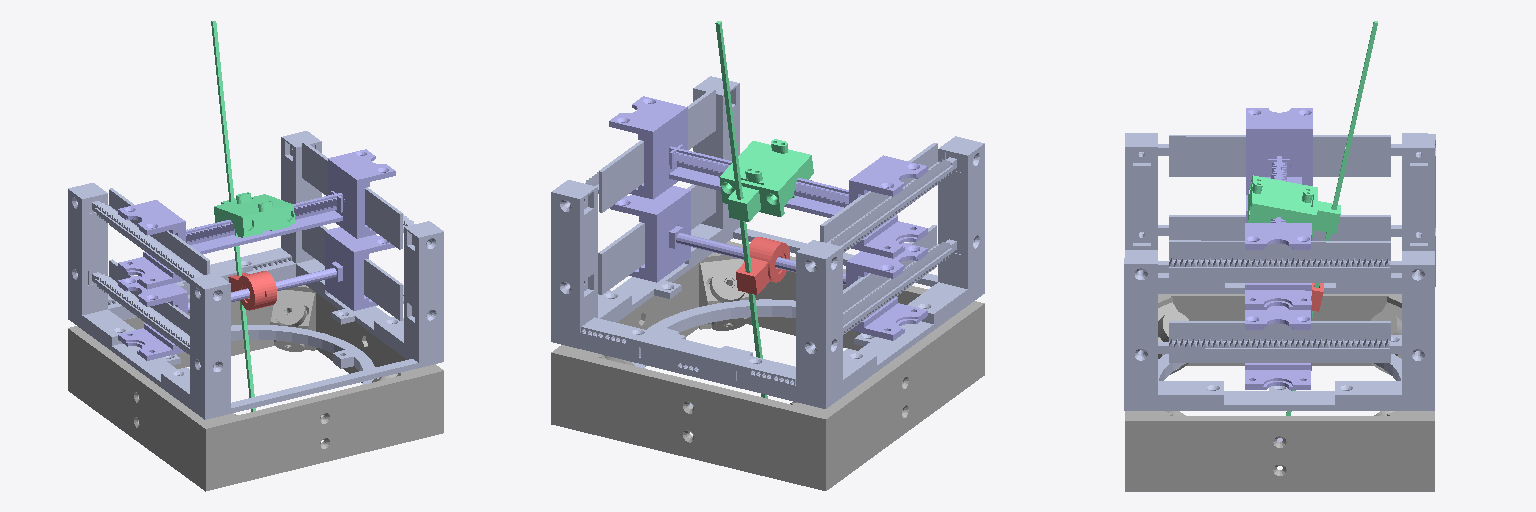
robot.urdf — robot_test:
<?xml version="1.0" ?>
<!-- Revolute-Revolute Manipulator -->
<robot name="robot_test" xmlns:xacro="http://www.ros.org/wiki/xacro">
    <link name="world" />
    <link name="base_link">

<inertial>
            <origin xyz="0 0 0.0175" rpy="0 0 0" />
            <mass value="0.168" />
            <inertia ixx="0.0005" ixy="0" ixz="0" iyy="0.00049" iyz="0" izz="0.00097" />
        </inertial>
        <visual>
          <origin xyz="0.07 0.07 0" rpy="1.5708 0 0" />
          <geometry>
              <mesh filename="package://robot_test/meshes/base_linkc3.STL" />
          </geometry>
            <material name="">
                <color rgba="0.752941176470588 0.752941176470588 0.752941176470588 1" />
            </material>
        </visual>
        <collision>
          <origin xyz="0.07 0.07 0" rpy="1.5708 0 0" />
          <geometry>
              <mesh filename="package://robot_test/meshes/base_linkc3.STL" />
          </geometry>
        </collision>
    </link>
    <joint name="Joint0" type="fixed">
        <parent link="world" />
        <child link="base_link" />
    </joint>
    <link name="Link1">

<inertial>
            <origin xyz="0 0.04 0" rpy="0 0 0" />
            <mass value="0.125076916309071" />
            <inertia ixx="0.000213301900832475" ixy="7.20042983445819E-14" ixz="1.93294951442505E-15" iyy="0.000241629980148854" iyz="-3.15911644980272E-07" izz="15.71772481619727E-05" />
        </inertial>
<!--<origin xyz="-0.2 -0.25 0.2" rpy="0 0.55 0" /> -->
        <visual>
            <origin xyz="0 0 0" rpy="0 1.5708 0" />
            <geometry>
                <mesh filename="package://robot_test/meshes/Link1gb.STL" />
            </geometry>
            <material name="">
                <color rgba="0.792156862745098 0.819607843137255 0.933333333333333 1" />
            </material>
        </visual>
        <collision>
            <origin xyz="0 -0.25 0" rpy="0 0 0" />
            <geometry>
                <mesh filename="package://robot_test/meshes/Link1gb.STL" />
            </geometry>
        </collision>
    </link>
    <!--revolute  rpy="1.5708 0 -2.3561" -->
    <joint name="Joint1" type="revolute">
        <origin xyz="0 0 0.04" rpy="1.5708 0 4.71" />
        <parent link="base_link" />
        <child link="Link1" />
        <axis xyz="0 1 0" />
        <!--lower="-1.34" upper="1.34"-->
        <limit effort="3" velocity="5.0" lower="-1.34" upper="1.34" />
        <dynamics damping="0.7" />
    </joint>
    <link name="Link2">

<inertial>
            <origin xyz="0 0 0" rpy="0 0 0" />
            <mass value="0.0217880910599681" />
            <inertia ixx="0.000003227" ixy="0" ixz="0" iyy="0.00005049" iyz="0" izz="0.00005" />
        </inertial>

        <!-- 0 up forward -->
        <visual>
            <origin xyz="0 -0.0165 0.0207" rpy="-1.5708 1.5708 0" />
            <geometry>
                <mesh filename="package://asm_robotv2_4/meshes/Link2.STL" />
            </geometry>
            <material name="">
                <color rgba="0.752941176470588 0.752941176470588 1 1" />
            </material>
        </visual>
        <collision>
            <origin xyz="0 -0.0165 0.0207" rpy="-1.5708 1.5708 0" />
            <geometry>
                <mesh filename="package://robot_test/meshes/Link2.STL" />
            </geometry>
        </collision>
    </link>
    <joint name="Joint2" type="prismatic">
        <origin xyz="0 0.068 0" rpy="0 4.71 0" />
        <parent link="Link1" />
        <child link="Link2" />
        <axis xyz="0 0 1" />
        <limit lower="-0.035" upper="0.035" effort="3" velocity="5.0" />
        <dynamics damping="0.7" />
    </joint>
    <link name="Fake">
      <inertial>
                  <origin xyz="0 0 0" rpy="0 0 0" />
                  <mass value="0.00687392728317165" />
                  <inertia ixx="4.68999634639831E-07" ixy="-6.61744490042422E-22" ixz="-1.20561574279604E-22" iyy="5.02478511000677E-07" iyz="1.21000404772896E-09" izz="8.02816429799795E-07" />
              </inertial>
      </link>
    <joint name="Joint2_3" type="revolute">
        <origin xyz="0 0 0" rpy="0.2 0 0" />
        <parent link="Link2" />
        <child link="Fake" />
        <axis xyz="1 0 0" />
        <limit effort="3" velocity="5.0" lower="-1.34" upper="1.34" />
        <dynamics damping="0.7" />
    </joint>
    <link name="Link3_1">

<inertial>
            <origin xyz="0 0.001 0" rpy="-1.5708 0 0" />
            <mass value="0.00687392728317165" />
            <inertia ixx="4.68999634639831E-07" ixy="-6.61744490042422E-22" ixz="-1.20561574279604E-22" iyy="5.02478511000677E-07" iyz="1.21000404772896E-09" izz="8.02816429799795E-07" />
        </inertial>

        <!-- 0 -0.001 forward -->
        <visual>
            <origin xyz="0 -0.007 0.02055" rpy="-1.5708 0 0" />
            <geometry>
                <mesh filename="package://asm_robotv2_4/meshes/Link3_1.STL" />
            </geometry>
            <material name="">
                <color rgba="0.529411764705882 1 0.752941176470588 1" />
            </material>
        </visual>
        <collision>
            <origin xyz="0 0 0.02" rpy="-1.5708 0 0" />
            <geometry>
                <mesh filename="package://asm_robotv2_4/meshes/Link3_1.STL" />
            </geometry>
        </collision>
    </link>
    <joint name="Joint3_1" type="prismatic">
        <origin xyz="0 0 0" rpy="0 0 0" />
        <parent link="Fake" />
        <child link="Link3_1" />
        <axis xyz="1 0 0" />
        <limit lower="-0.03125" upper="0.03125" effort="3" velocity="5.0" />
        <dynamics damping="0.7" />
    </joint>

    <link name="Link4">
        <inertial>
            <origin xyz="0 0 0" rpy="0 0 0" />
            <mass value="0.000687392728317165" />
            <inertia ixx="0.0000002527" ixy="0" ixz="0" iyy="0.0000002527" iyz="0" izz="0.072816429799795E-07" />
        </inertial>
        <visual>
            <origin xyz="0 0 0" rpy="0 0 0" />
            <geometry>
                <box size="0.002 0.002 0.2" />
            </geometry>
            <material name="">
                <color rgba="0.529411764705882 1 0.752941176470588 1" />
            </material>
        </visual>
        <collision>
            <origin xyz="0 0 0" rpy="0 0 0" />
            <geometry>
                <box size="0.002 0.002 0.1" />
            </geometry>
        </collision>
    </link>
    <joint name="Joint4" type="prismatic">
      <!--0.02 -->
        <origin xyz="0 0 0.024" rpy="1.57 0 0" />
        <parent link="Link3_1" />
        <child link="Link4" />
        <axis xyz="0 0 1 " />
        <!---0.03125 -->
        <limit lower="-0.03125" upper="0.05" effort="3" velocity="5.0" />
        <dynamics damping="0.7"/>
    </joint>
    <link name="Fake5"/>
    <joint name="Joint_ee1" type="fixed">
        <origin xyz="0 0 0.105" rpy="0 0 0" />
        <parent link="Link4" />
        <child link="Fake5" />
        <dynamics damping="0.7"/>
    </joint>


    <link name="Link2_2">
      <inertial>
            <origin xyz="0 0 0" rpy="0 0 0" />
            <mass value="0.0198869983841949" />
            <inertia ixx="0.000003227" ixy="0" ixz="0" iyy="0.00005049" iyz="0" izz="0.00005" />
        </inertial>

        <!-- 0 up forward -->
        <visual>
            <origin xyz="0 0.0165 -0.0135" rpy="-1.5708 1.5708 0" />
            <geometry>
                <mesh filename="package://robot_test/meshes/Link2_2.STL" />
            </geometry>
            <material name="">
                <color rgba="0.752941176470588 0.752941176470588 1 1" />
            </material>
        </visual>
        <collision>
            <origin xyz="0 0.015 -0.013" rpy="-1.5708 1.5708 0" />
            <geometry>
                <mesh filename="package://robot_test/meshes/Link2_2.STL" />
            </geometry>
        </collision>
    </link>
    <joint name="Joint2_2" type="prismatic">
        <origin xyz="0 0.028 0" rpy="0 4.71 0" />
        <parent link="Link1" />
        <child link="Link2_2" />
        <axis xyz="0 0 1" />
        <limit lower="-0.035" upper="0.035" effort="3" velocity="5.0" />
        <dynamics damping="0.7" />
    </joint>
    <link name="Fake2">
      <inertial>
                  <origin xyz="0 0 0" rpy="0 0 0" />
                  <mass value="0.00687392728317165" />
                  <inertia ixx="-1.20561574279604E-22"
              ixy="-6.61744490042422E-22"
              ixz="-1.20561574279604E-22"
              iyy="-1.20561574279604E-22"
              iyz="-1.20561574279604E-22"
              izz="-1.20561574279604E-22" />
              </inertial>
      </link>
    <joint name="Joint5" type="revolute">
        <origin xyz="0 0 0" rpy="0.2 0 0" />
        <parent link="Link2_2" />
        <child link="Fake2" />
        <axis xyz="1 0 0" />
        <limit effort="3" velocity="5.0" lower="-1.34" upper="1.34" />
        <dynamics damping="0.7" />
    </joint>
    <link name="Link3_2">

      <inertial>
            <origin xyz="0 0 0" rpy="0 -1.5708 -1.5708" />
            <mass value="0.00392509494863912" />
            <inertia ixx="1.22511067255343E-07" ixy="-3.59085107182492E-09" ixz="1.01277926249461E-22" iyy="2.33144279565317E-07" iyz="-1.75258892284673E-23" izz="2.06480464452128E-07" />
        </inertial>

        <visual>
            <!--0 up forward-->
            <origin xyz="0 0.009 0.0125" rpy="0 -1.5708 -1.5708" />
            <geometry>
                <mesh filename="package://robot_test/meshes/Link3_2.STL" />
            </geometry>
            <material name="">
                <color rgba="1 0.501960784313725 0.501960784313725 1" />
            </material>
        </visual>
        <collision>
            <origin xyz="0 0.008 0.015" rpy="0 -1.5708 -1.5708" />
            <geometry>
                <mesh filename="package://robot_test/meshes/Link3_2.STL" />
            </geometry>
        </collision>
    </link>
    <joint name="Joint3_2" type="prismatic">
        <origin xyz="0 0 0" rpy="0 0 0" />
        <parent link="Fake2" />
        <child link="Link3_2" />
        <axis xyz="1 0 0" />
        <limit lower="-0.03125" upper="0.03125" effort="3" velocity="5.0" />
        <dynamics damping="0.7" />
    </joint>

    <link name="Link4_2">
      <inertial>
            <origin xyz="0 0 0" rpy="0 0 0" />
            <mass value="0.000687392728317165" />
            <inertia ixx="0.0000002527" ixy="0" ixz="0" iyy="0.0000002527" iyz="0" izz="0.072816429799795E-07" />
        </inertial>

        <visual>
            <origin xyz="0 0 0" rpy="0 0 0" />
            <geometry>
                <box size="0.002 0.002 0.15" />
            </geometry>
            <material name="">
                <color rgba="0.529411764705882 1 0.752941176470588 1" />
            </material>
        </visual>
        <collision>
            <origin xyz="0 0 0" rpy="0 0 0" />
            <geometry>
                <box size="0.002 0.002 0.1" />
            </geometry>
        </collision>
    </link>
    <joint name="Joint4_2" type="prismatic">
      <!--<origin xyz="0 0 0.016" rpy="1.57 0 0" />-->
        <origin xyz="0 0 0.016" rpy="1.57 0 0" />
        <parent link="Link3_2" />
        <child link="Link4_2" />
        <axis xyz="0 0 1 " />
        <!-- lower="-0.03125" upper="0.01"  -->
        <limit lower="-0.05" upper="0.05" effort="3" velocity="5.0" />
        <dynamics damping="0.7"/>
    </joint>
    <link name="Fake4" />
    <joint name="Joint_ee" type="fixed">
      <!--<origin xyz="0 0 0.05" rpy="0 0 0"" />-->
        <origin xyz="0 0 0.08" rpy="0 0 0" />
        <parent link="Link4_2" />
        <child link="Fake4" />
    </joint>

<transmission name="trans_Joint1">
        <type>transmission_interface/SimpleTransmission</type>
        <joint name="Joint1">
            <hardwareInterface>hardware_interface/PositionJointInterface</hardwareInterface>
        </joint>
        <actuator name="Joint1_motor">
            <hardwareInterface>hardware_interface/PositionJointInterface</hardwareInterface>
            <mechanicalReduction>1</mechanicalReduction>
        </actuator>
    </transmission>
    <transmission name="trans_Joint2">
        <type>transmission_interface/SimpleTransmission</type>
        <joint name="Joint2">
            <hardwareInterface>hardware_interface/PositionJointInterface</hardwareInterface>
        </joint>
        <actuator name="Joint2_motor">
            <hardwareInterface>hardware_interface/PositionJointInterface</hardwareInterface>
            <mechanicalReduction>1</mechanicalReduction>
        </actuator>
    </transmission>
    <transmission name="trans_Joint2_3">
        <type>transmission_interface/SimpleTransmission</type>
        <joint name="Joint2_3">
            <hardwareInterface>hardware_interface/PositionJointInterface</hardwareInterface>
        </joint>
        <actuator name="Joint2_3_motor">
            <hardwareInterface>hardware_interface/PositionJointInterface</hardwareInterface>
            <mechanicalReduction>1</mechanicalReduction>
        </actuator>
    </transmission>
    <transmission name="trans_Joint3_1">
        <type>transmission_interface/SimpleTransmission</type>
        <joint name="Joint3_1">
            <hardwareInterface>hardware_interface/PositionJointInterface</hardwareInterface>
        </joint>
        <actuator name="Joint3_1_motor">
            <hardwareInterface>hardware_interface/PositionJointInterface</hardwareInterface>
            <mechanicalReduction>1</mechanicalReduction>
        </actuator>
    </transmission>
    <transmission name="trans_Joint4">
        <type>transmission_interface/SimpleTransmission</type>
        <joint name="Joint4">
            <hardwareInterface>hardware_interface/PositionJointInterface</hardwareInterface>
        </joint>
        <actuator name="Joint4_motor">
            <hardwareInterface>hardware_interface/PositionJointInterface</hardwareInterface>
            <mechanicalReduction>1</mechanicalReduction>
        </actuator>
    </transmission>
    <transmission name="trans_Joint2_2">
        <type>transmission_interface/SimpleTransmission</type>
        <joint name="Joint2_2">
            <hardwareInterface>hardware_interface/PositionJointInterface</hardwareInterface>
        </joint>
        <actuator name="Joint2_2_motor">
            <hardwareInterface>hardware_interface/PositionJointInterface</hardwareInterface>
            <mechanicalReduction>1</mechanicalReduction>
        </actuator>
    </transmission>
    <transmission name="trans_Joint5">
        <type>transmission_interface/SimpleTransmission</type>
        <joint name="Joint5">
            <hardwareInterface>hardware_interface/PositionJointInterface</hardwareInterface>
        </joint>
        <actuator name="Joint5_motor">
            <hardwareInterface>hardware_interface/PositionJointInterface</hardwareInterface>
            <mechanicalReduction>1</mechanicalReduction>
        </actuator>
    </transmission>
    <transmission name="trans_Joint3_2">
        <type>transmission_interface/SimpleTransmission</type>
        <joint name="Joint3_2">
            <hardwareInterface>hardware_interface/PositionJointInterface</hardwareInterface>
        </joint>
        <actuator name="Joint3_2_motor">
            <hardwareInterface>hardware_interface/PositionJointInterface</hardwareInterface>
            <mechanicalReduction>1</mechanicalReduction>
        </actuator>
    </transmission>
    <transmission name="trans_Joint4_2">
        <type>transmission_interface/SimpleTransmission</type>
        <joint name="Joint4_2">
            <hardwareInterface>hardware_interface/PositionJointInterface</hardwareInterface>
        </joint>
        <actuator name="Joint4_2_motor">
            <hardwareInterface>hardware_interface/PositionJointInterface</hardwareInterface>
            <mechanicalReduction>1</mechanicalReduction>
        </actuator>
    </transmission>

    <!--
    <transmission name="trans_Joint1">
            <type>transmission_interface/SimpleTransmission</type>
            <joint name="Joint1">
                <hardwareInterface>hardware_interface/VelocityJointInterface</hardwareInterface>
            </joint>
            <actuator name="Joint1_motor">
                <hardwareInterface>hardware_interface/VelocityJointInterface</hardwareInterface>
                <mechanicalReduction>1</mechanicalReduction>
            </actuator>
        </transmission>
        <transmission name="trans_Joint2">
            <type>transmission_interface/SimpleTransmission</type>
            <joint name="Joint2">
                <hardwareInterface>hardware_interface/VelocityJointInterface</hardwareInterface>
            </joint>
            <actuator name="Joint2_motor">
                <hardwareInterface>hardware_interface/VelocityJointInterface</hardwareInterface>
                <mechanicalReduction>1</mechanicalReduction>
            </actuator>
        </transmission>
        <transmission name="trans_Joint2_3">
            <type>transmission_interface/SimpleTransmission</type>
            <joint name="Joint2_3">
                <hardwareInterface>hardware_interface/VelocityJointInterface</hardwareInterface>
            </joint>
            <actuator name="Joint2_3_motor">
                <hardwareInterface>hardware_interface/VelocityJointInterface</hardwareInterface>
                <mechanicalReduction>1</mechanicalReduction>
            </actuator>
        </transmission>
        <transmission name="trans_Joint3_1">
            <type>transmission_interface/SimpleTransmission</type>
            <joint name="Joint3_1">
                <hardwareInterface>hardware_interface/VelocityJointInterface</hardwareInterface>
            </joint>
            <actuator name="Joint3_1_motor">
                <hardwareInterface>hardware_interface/VelocityJointInterface</hardwareInterface>
                <mechanicalReduction>1</mechanicalReduction>
            </actuator>
        </transmission>
        <transmission name="trans_Joint4">
            <type>transmission_interface/SimpleTransmission</type>
            <joint name="Joint4">
                <hardwareInterface>hardware_interface/VelocityJointInterface</hardwareInterface>
            </joint>
            <actuator name="Joint4_motor">
                <hardwareInterface>hardware_interface/VelocityJointInterface</hardwareInterface>
                <mechanicalReduction>1</mechanicalReduction>
            </actuator>
        </transmission>
        <transmission name="trans_Joint2_2">
            <type>transmission_interface/SimpleTransmission</type>
            <joint name="Joint2_2">
                <hardwareInterface>hardware_interface/VelocityJointInterface</hardwareInterface>
            </joint>
            <actuator name="Joint2_2_motor">
                <hardwareInterface>hardware_interface/VelocityJointInterface</hardwareInterface>
                <mechanicalReduction>1</mechanicalReduction>
            </actuator>
        </transmission>
        <transmission name="trans_Joint5">
            <type>transmission_interface/SimpleTransmission</type>
            <joint name="Joint5">
                <hardwareInterface>hardware_interface/VelocityJointInterface</hardwareInterface>
            </joint>
            <actuator name="Joint5_motor">
                <hardwareInterface>hardware_interface/VelocityJointInterface</hardwareInterface>
                <mechanicalReduction>1</mechanicalReduction>
            </actuator>
        </transmission>
        <transmission name="trans_Joint3_2">
            <type>transmission_interface/SimpleTransmission</type>
            <joint name="Joint3_2">
                <hardwareInterface>hardware_interface/VelocityJointInterface</hardwareInterface>
            </joint>
            <actuator name="Joint3_2_motor">
                <hardwareInterface>hardware_interface/VelocityJointInterface</hardwareInterface>
                <mechanicalReduction>1</mechanicalReduction>
            </actuator>
        </transmission>
        <transmission name="trans_Joint4_2">
            <type>transmission_interface/SimpleTransmission</type>
            <joint name="Joint4_2">
                <hardwareInterface>hardware_interface/VelocityJointInterface</hardwareInterface>
            </joint>
            <actuator name="Joint4_2_motor">
                <hardwareInterface>hardware_interface/VelocityJointInterface</hardwareInterface>
                <mechanicalReduction>1</mechanicalReduction>
            </actuator>
        </transmission>
    -->

    <gazebo>
      <plugin name="gazebo_ros_control" filename="libgazebo_ros_control.so">
        <robotNamespace>/robot_test</robotNamespace>
        <robotSimType>gazebo_ros_control/DefaultRobotHWSim</robotSimType>
      </plugin>
    </gazebo>

</robot>

--- Render facts (derived) ---
3 views of the same robot in one strip: view 1: azimuth 30°, elevation 25°; view 2: azimuth 150°, elevation 25°; view 3: azimuth 270°, elevation 25° (orthographic).
Robot: robot_test — 13 links, 12 joints (3 revolute, 6 prismatic, 3 fixed); root link world; default pose: all joints at 0.
Visible links, largest first — view 1: Link1, base_link, Link2, Link2_2, Link3_1, Link3_2, Link4, Link4_2; view 2: Link1, base_link, Link2, Link2_2, Link3_1, Link3_2, Link4; view 3: Link1, base_link, Link2, Link3_1, Link2_2, Link4.
Boxes of the visible links, x1,y1,x2,y2 form: Link1: (68,131,443,419); base_link: (68,285,443,491); Link2: (118,149,395,289); Link2_2: (118,227,394,360); Link3_1: (214,192,295,237); Link3_2: (228,271,276,310); Link4: (211,21,249,397); Link4_2: (224,143,255,411); Link1: (551,76,984,408); base_link: (551,241,984,490); Link2: (609,96,927,258); Link2_2: (610,186,927,340); Link3_1: (719,139,813,221); Link3_2: (736,237,789,294); Link4: (715,21,762,358); Link1: (1124,133,1435,441); base_link: (1125,294,1434,491); Link2: (1245,108,1312,309); Link3_1: (1248,175,1340,237); Link2_2: (1245,195,1312,389); Link4: (1286,21,1377,415).
Bounding box of the posed robot: 0.1453 × 0.1403 × 0.2103 m (x, y, z).
6 mesh visuals loaded from 6 distinct referenced files (6 binary STL).